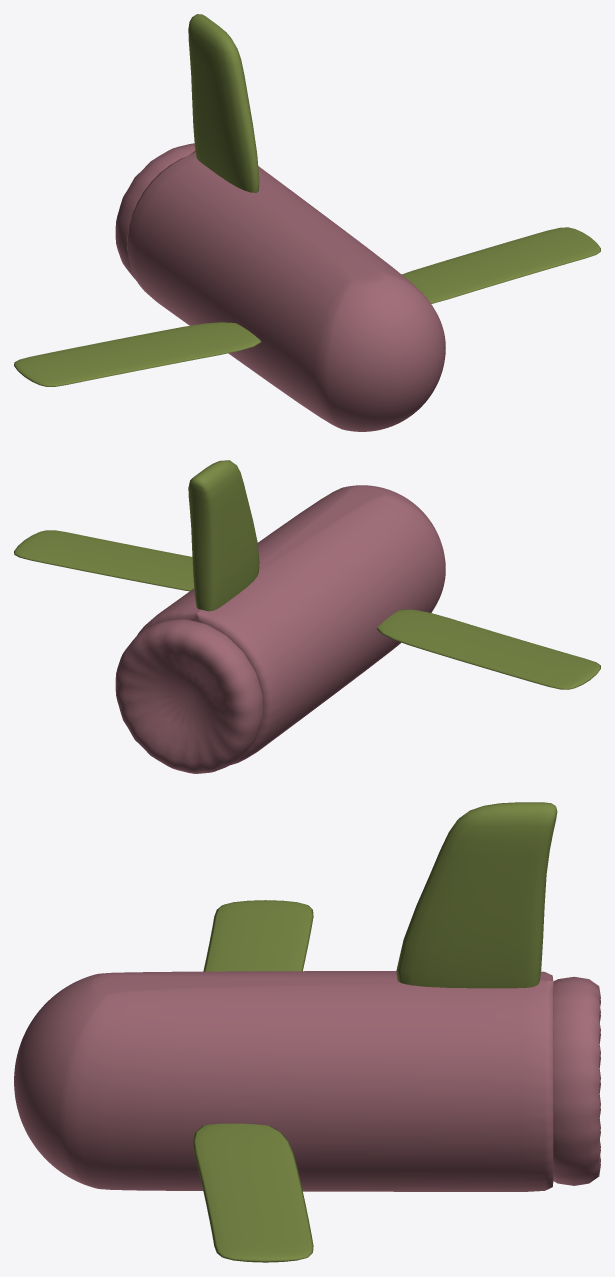
Rendered from enemy.fbx.
The picture shows the model from 3 angles, top to bottom: view 1: azimuth 30°, elevation 25°; view 2: azimuth 150°, elevation 25°; view 3: azimuth 270°, elevation 25°; orthographic projection. The views are drawn at different scales.
Visible parts, largest first — view 1: pSphere2; view 2: pSphere2; view 3: pSphere2.
Part boxes in pixels (x1=…): pSphere2: x1=14, y1=14, x2=600, y2=431; pSphere2: x1=14, y1=460, x2=600, y2=773; pSphere2: x1=14, y1=802, x2=600, y2=1262.
Size of the model in its own units: 4.59 by 2.25 by 3.16.
